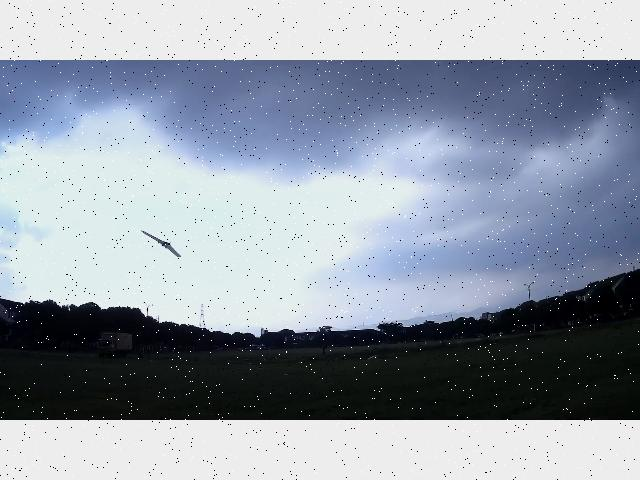Anti-Drone: (142, 231, 180, 257)
